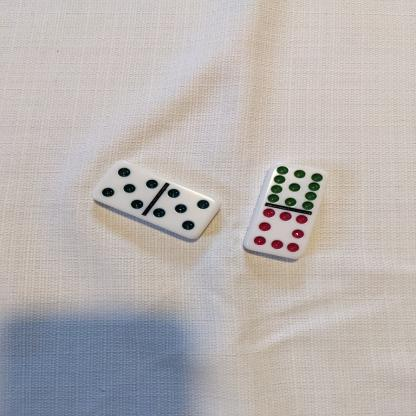pip-11: (266, 160, 326, 209)
pip-5: (151, 188, 221, 239), (92, 158, 158, 209)
pip-8: (244, 208, 307, 258)
